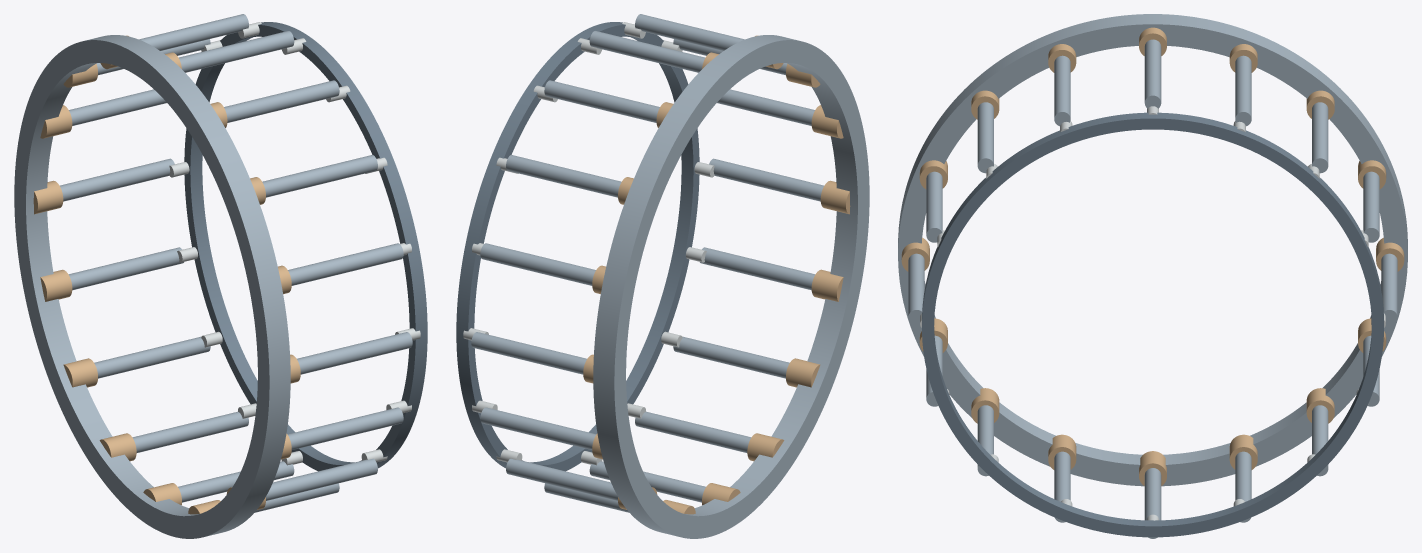
File: nozzle-actuators.glb
3 renders of one model, left to right at view 1: azimuth 30°, elevation 25°; view 2: azimuth 150°, elevation 25°; view 3: azimuth 270°, elevation 25°, orthographic.
Parts seen in each view (by area): view 1: nozzle-actuators - steel, nozzle-actuators - shell, nozzle-actuators - bronze, nozzle-actuators - fastener; view 2: nozzle-actuators - steel, nozzle-actuators - shell, nozzle-actuators - bronze, nozzle-actuators - fastener; view 3: nozzle-actuators - steel, nozzle-actuators - shell, nozzle-actuators - bronze, nozzle-actuators - fastener.
Part boxes in pixels (left/top/right/bottom): nozzle-actuators - steel: left=14, top=14, right=412, bottom=538; nozzle-actuators - shell: left=184, top=22, right=427, bottom=471; nozzle-actuators - bronze: left=33, top=35, right=300, bottom=514; nozzle-actuators - fastener: left=169, top=22, right=420, bottom=465; nozzle-actuators - steel: left=471, top=14, right=869, bottom=538; nozzle-actuators - shell: left=456, top=22, right=699, bottom=471; nozzle-actuators - bronze: left=583, top=35, right=850, bottom=514; nozzle-actuators - fastener: left=463, top=22, right=714, bottom=465; nozzle-actuators - steel: left=898, top=14, right=1407, bottom=538; nozzle-actuators - shell: left=922, top=112, right=1383, bottom=537; nozzle-actuators - bronze: left=901, top=27, right=1404, bottom=485; nozzle-actuators - fastener: left=920, top=106, right=1385, bottom=520.
Size of the model in its own units: 0.74 by 1.92 by 1.92.
